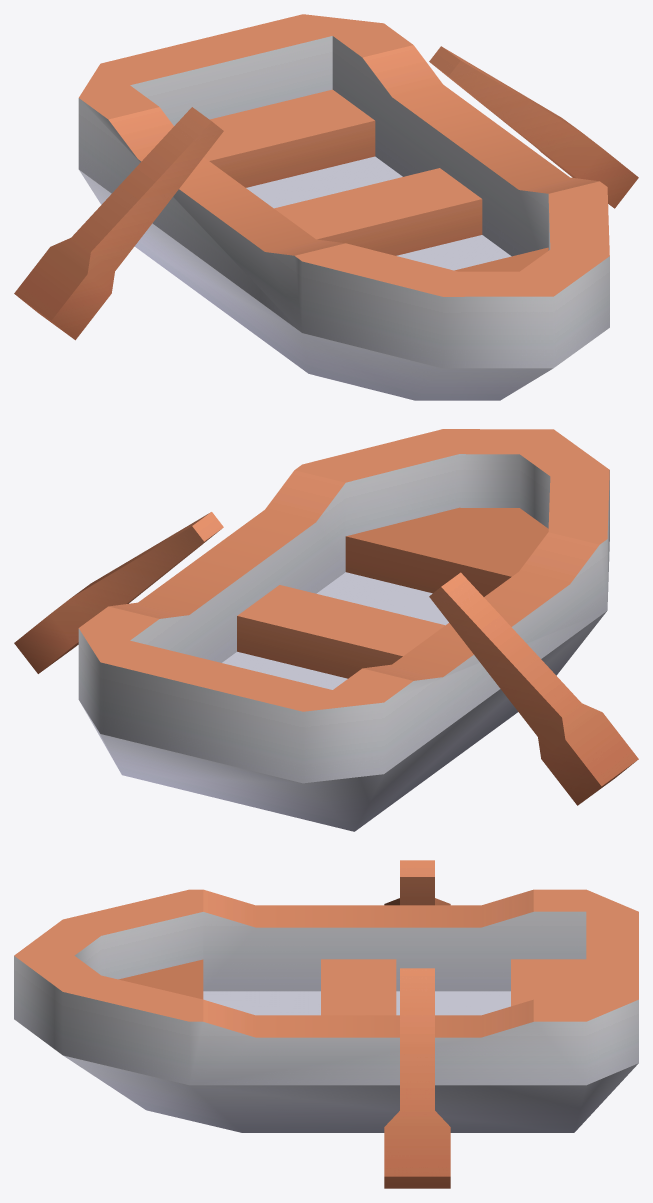
File: boat-row-large-transformed.glb
3 views of the same model, one above another, from view 1: azimuth 30°, elevation 25°; view 2: azimuth 150°, elevation 25°; view 3: azimuth 270°, elevation 25° (orthographic). The views are drawn at different scales.
Visible parts, largest first — view 1: boat-row-large, paddles; view 2: boat-row-large, paddles; view 3: boat-row-large, paddles.
Boxes of the visible parts, bbox=[...] form: boat-row-large: bbox=[78, 14, 609, 400]; paddles: bbox=[14, 46, 638, 340]; boat-row-large: bbox=[78, 429, 609, 831]; paddles: bbox=[14, 512, 638, 805]; boat-row-large: bbox=[14, 889, 638, 1132]; paddles: bbox=[384, 860, 450, 1188].
Size of the model in its own units: 2.75 by 0.8478 by 2.85.
Materials: 1 (1 with a texture image).
